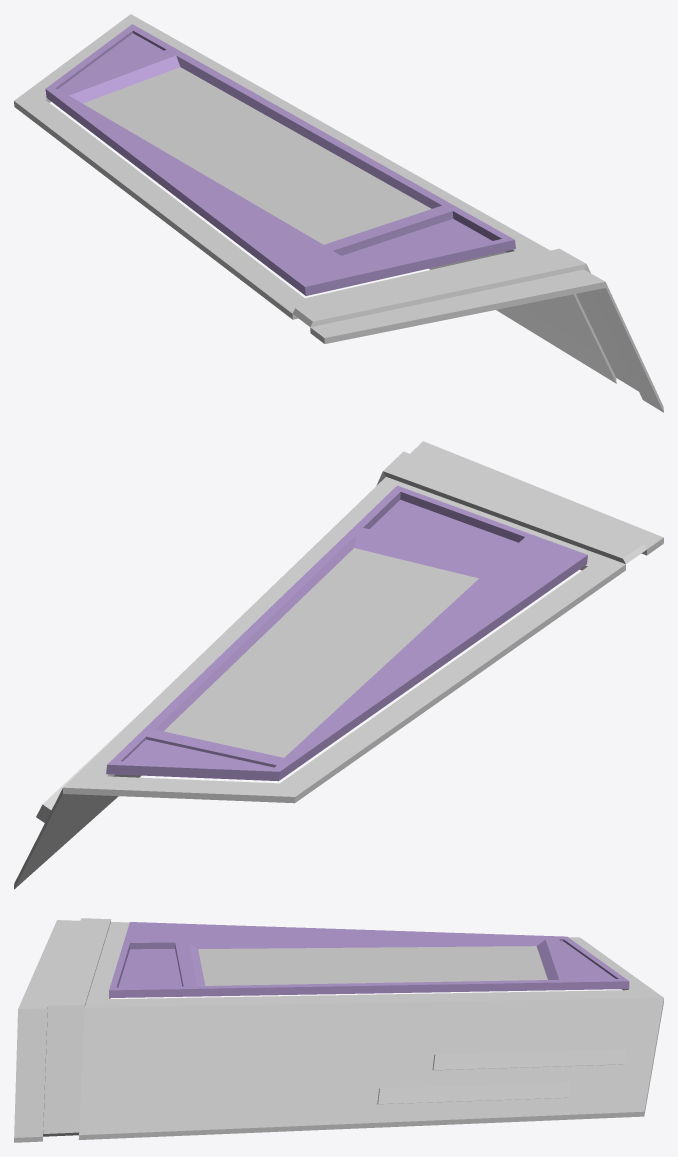
File: UI-Cuff-00.fbx
3 views of the same model, one above another, from view 1: azimuth 30°, elevation 25°; view 2: azimuth 150°, elevation 25°; view 3: azimuth 270°, elevation 25° (orthographic). The views are drawn at different scales.
Parts seen in each view (by area): view 1: screen, Cuff-base, notifications-band; view 2: screen, Cuff-base, notifications-band; view 3: Cuff-base, screen, notifications-band, Buttons.001.
Part boxes in pixels (x1,y1,x2,y2): screen: (45,24,515,295); Cuff-base: (14,14,663,412); notifications-band: (292,248,638,391); screen: (106,485,587,781); Cuff-base: (14,441,663,889); notifications-band: (376,451,646,563); Cuff-base: (14,920,663,1142); screen: (109,922,629,997); notifications-band: (43,918,111,1136); Buttons.001: (377,1049,626,1104).
Size of the model in its own units: 7.32 by 3.37 by 16.78.
